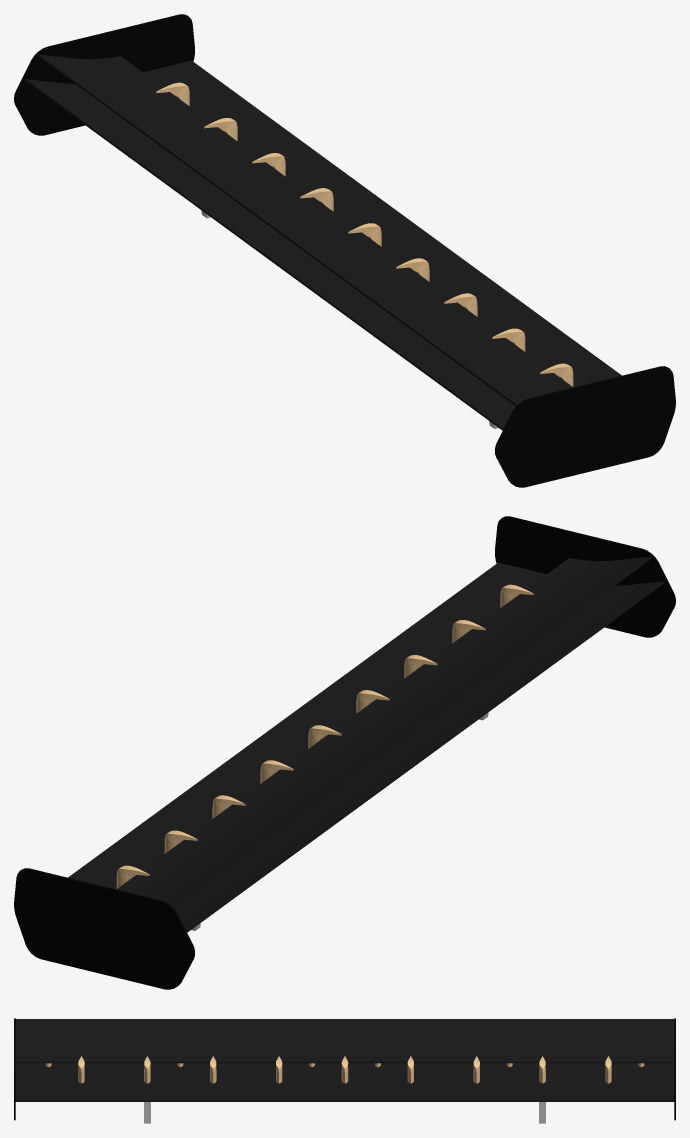
The model's file is Wing583Kg DownForce.fbx.
3 views of the same model, one above another, from view 1: azimuth 30°, elevation 25°; view 2: azimuth 150°, elevation 25°; view 3: azimuth 270°, elevation 25° (orthographic). The views are drawn at different scales.
Visible parts, largest first — view 1: Wing, Wing Sides, WindDiffePartis; view 2: Wing, Wing Sides, WindDiffePartis; view 3: Wing, WindDiffePartis, Wing Sides, Legs.
Boxes of the visible parts, x1=… form: Wing: x1=25, y1=54, x2=621, y2=430; Wing Sides: x1=14, y1=14, x2=675, y2=487; WindDiffePartis: x1=156, y1=82, x2=573, y2=386; Wing: x1=68, y1=556, x2=664, y2=932; Wing Sides: x1=14, y1=516, x2=675, y2=989; WindDiffePartis: x1=116, y1=584, x2=533, y2=888; Wing: x1=15, y1=1019, x2=674, y2=1101; WindDiffePartis: x1=78, y1=1056, x2=611, y2=1083; Wing Sides: x1=14, y1=1018, x2=675, y2=1120; Legs: x1=144, y1=1102, x2=545, y2=1123.
Bounding box in the file's own units: 43.32 × 26.11 × 201.
Materials: 4 (2 with a texture image).
